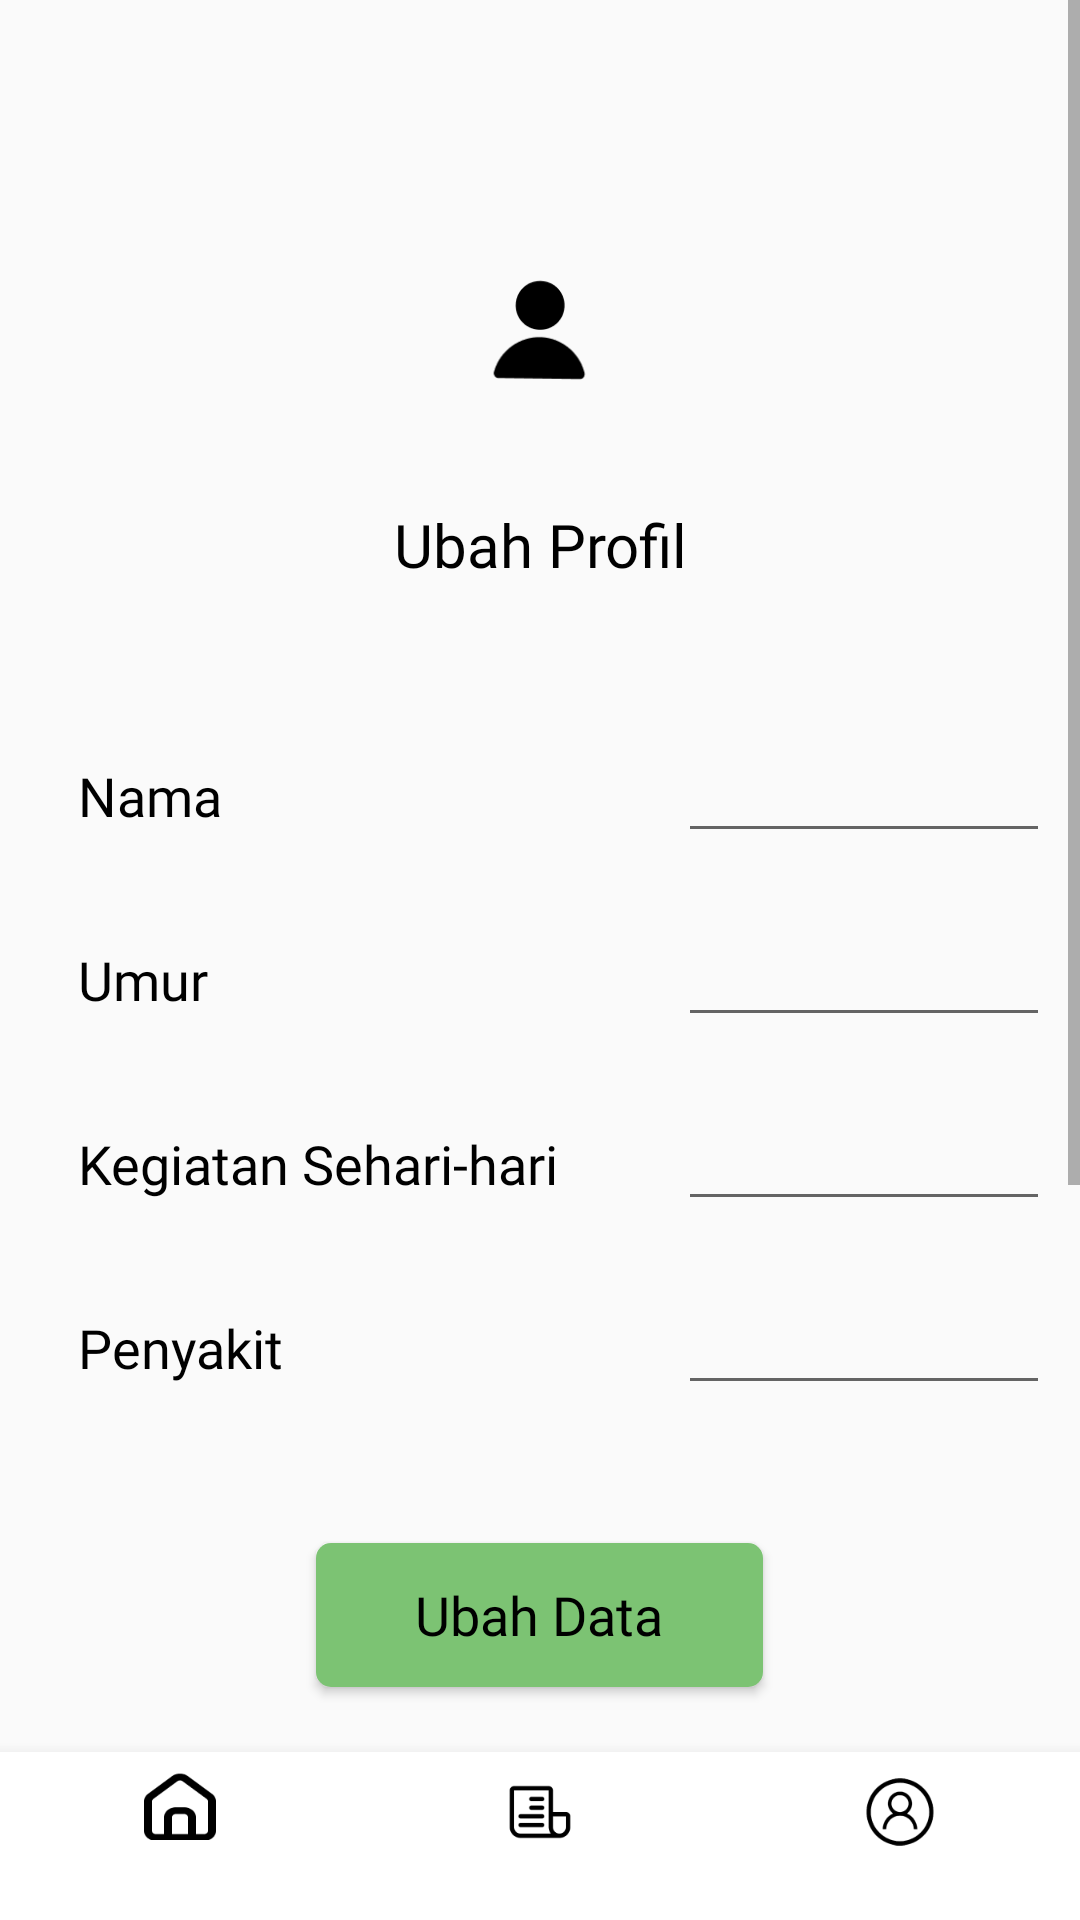

Locate icon controls on the screen. Image size 1080*1920, boxes as (left=x1, top=y1, right=x2, bottom=y2).
user profile: (left=493, top=280, right=585, bottom=380)
